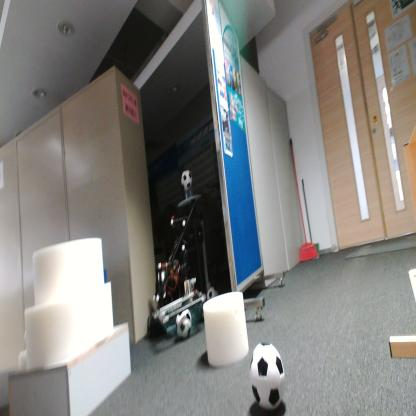ball: (248, 340, 286, 416), (175, 307, 193, 340), (180, 168, 194, 192), (206, 284, 220, 301)
